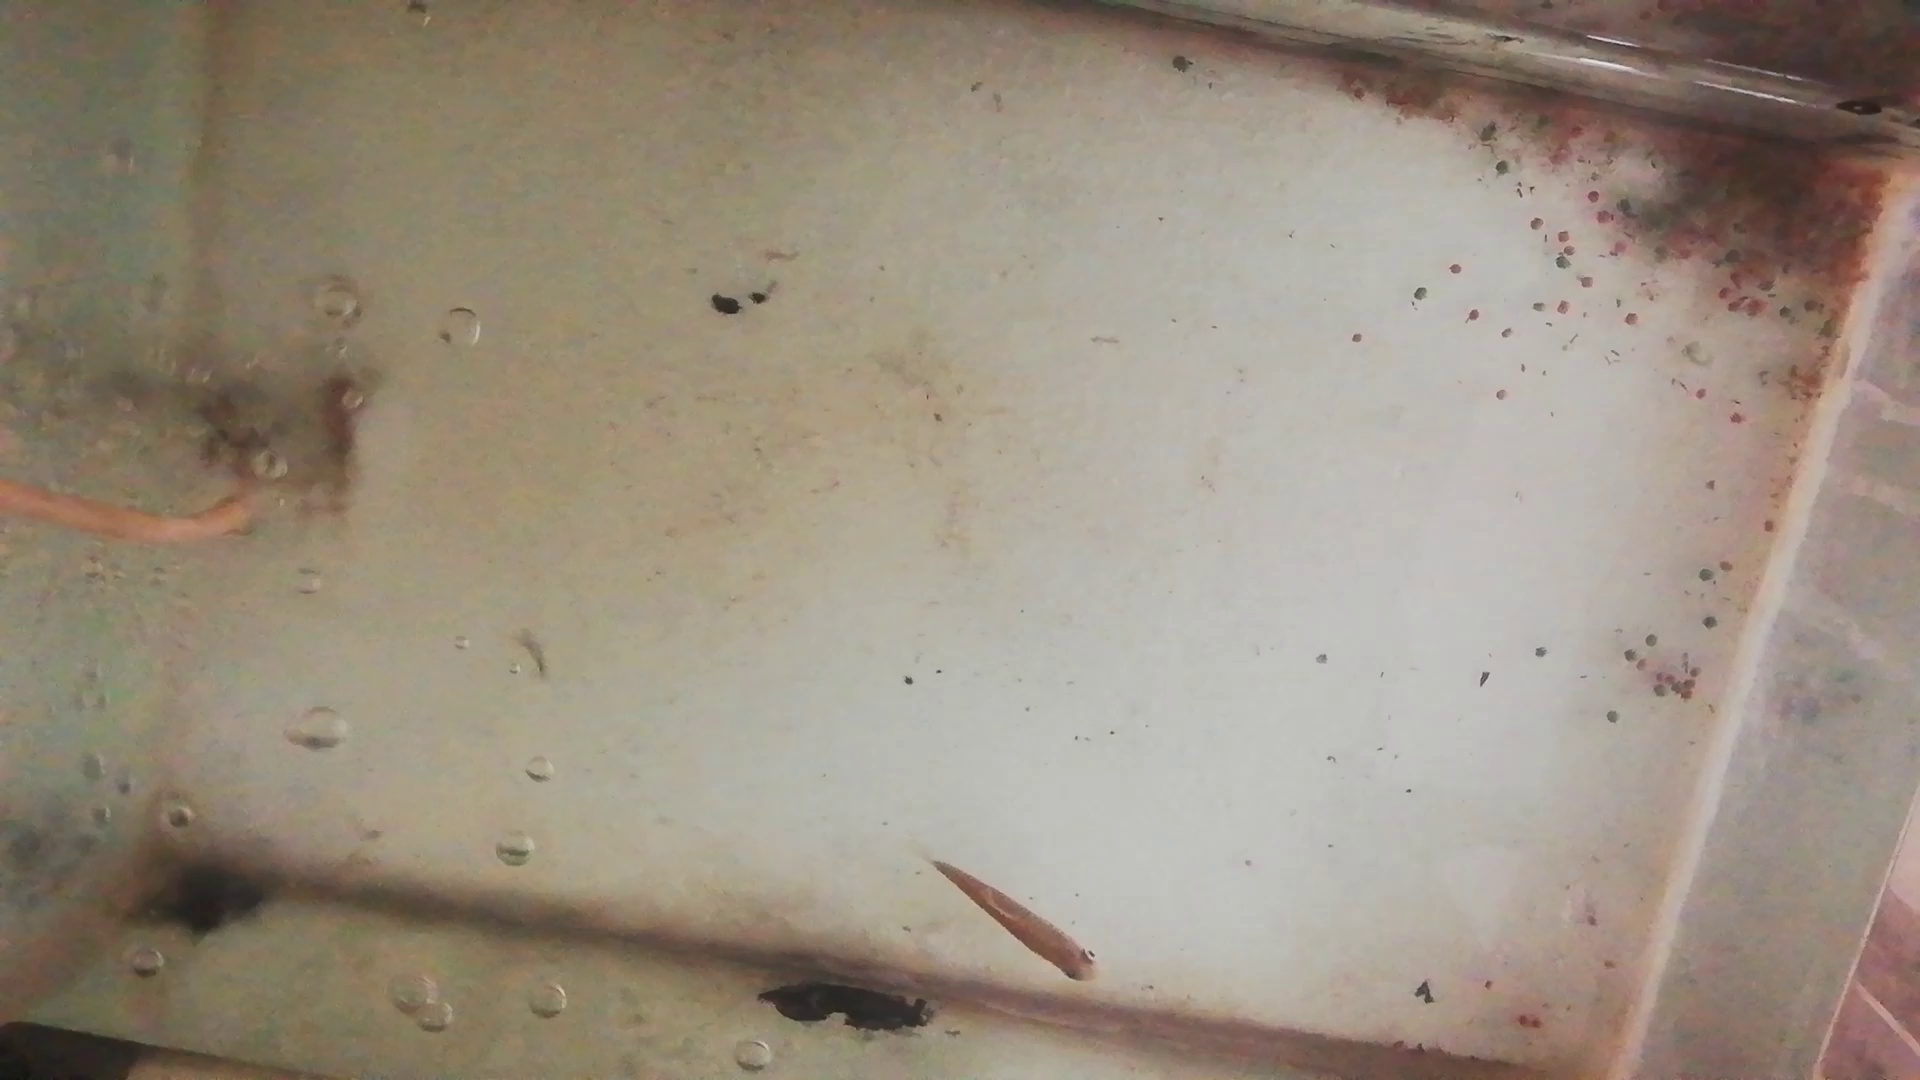fish: (931, 857, 1106, 981), (309, 359, 360, 529)
